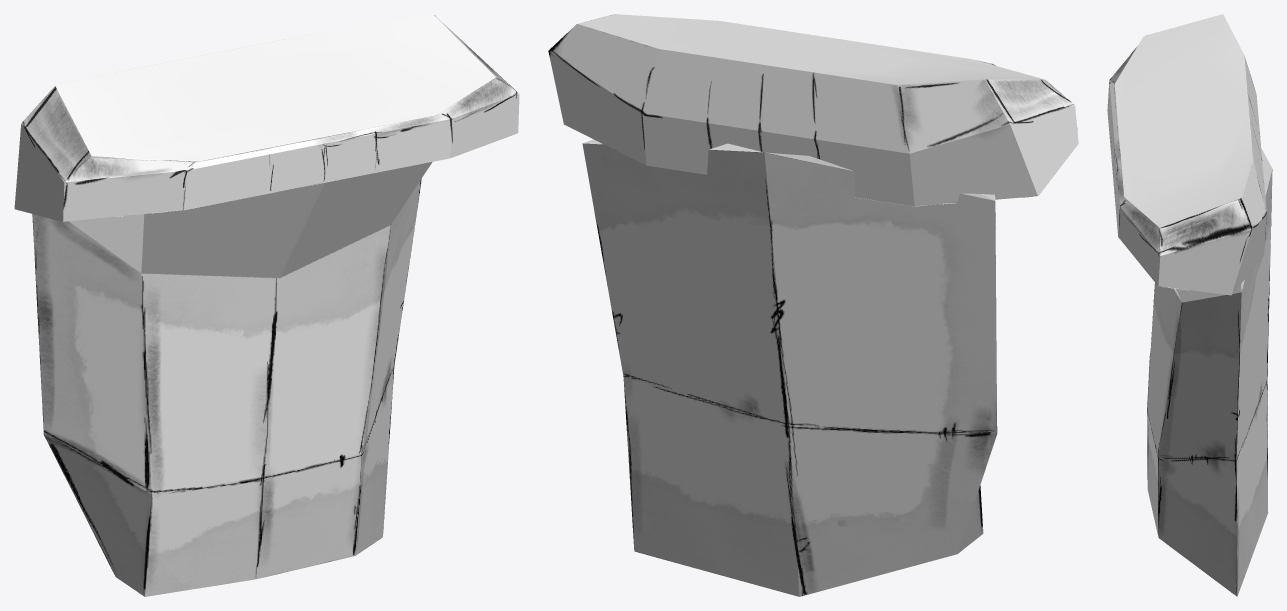
File: socle.fbx
3 views of the same model, side by side, from view 1: azimuth 30°, elevation 25°; view 2: azimuth 150°, elevation 25°; view 3: azimuth 270°, elevation 25° (orthographic). The views are drawn at different scales.
Visible parts, largest first — view 1: board.001; view 2: board.001; view 3: board.001.
Boxes of the visible parts, x1,y1,x2,y2 form: board.001: [14, 14, 519, 596]; board.001: [548, 14, 1078, 596]; board.001: [1107, 14, 1272, 596].
Bounding box in the file's own units: 134 × 146 × 48.99.
Materials: 1 (1 with a texture image).
